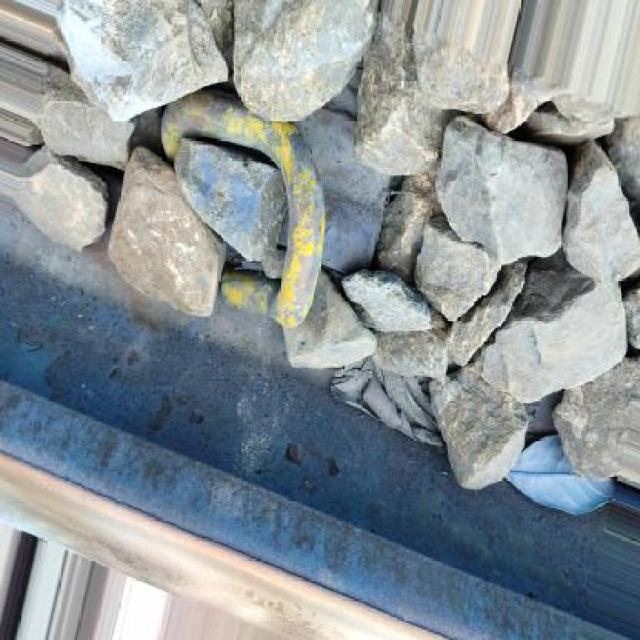defective: (0, 203, 640, 640)
